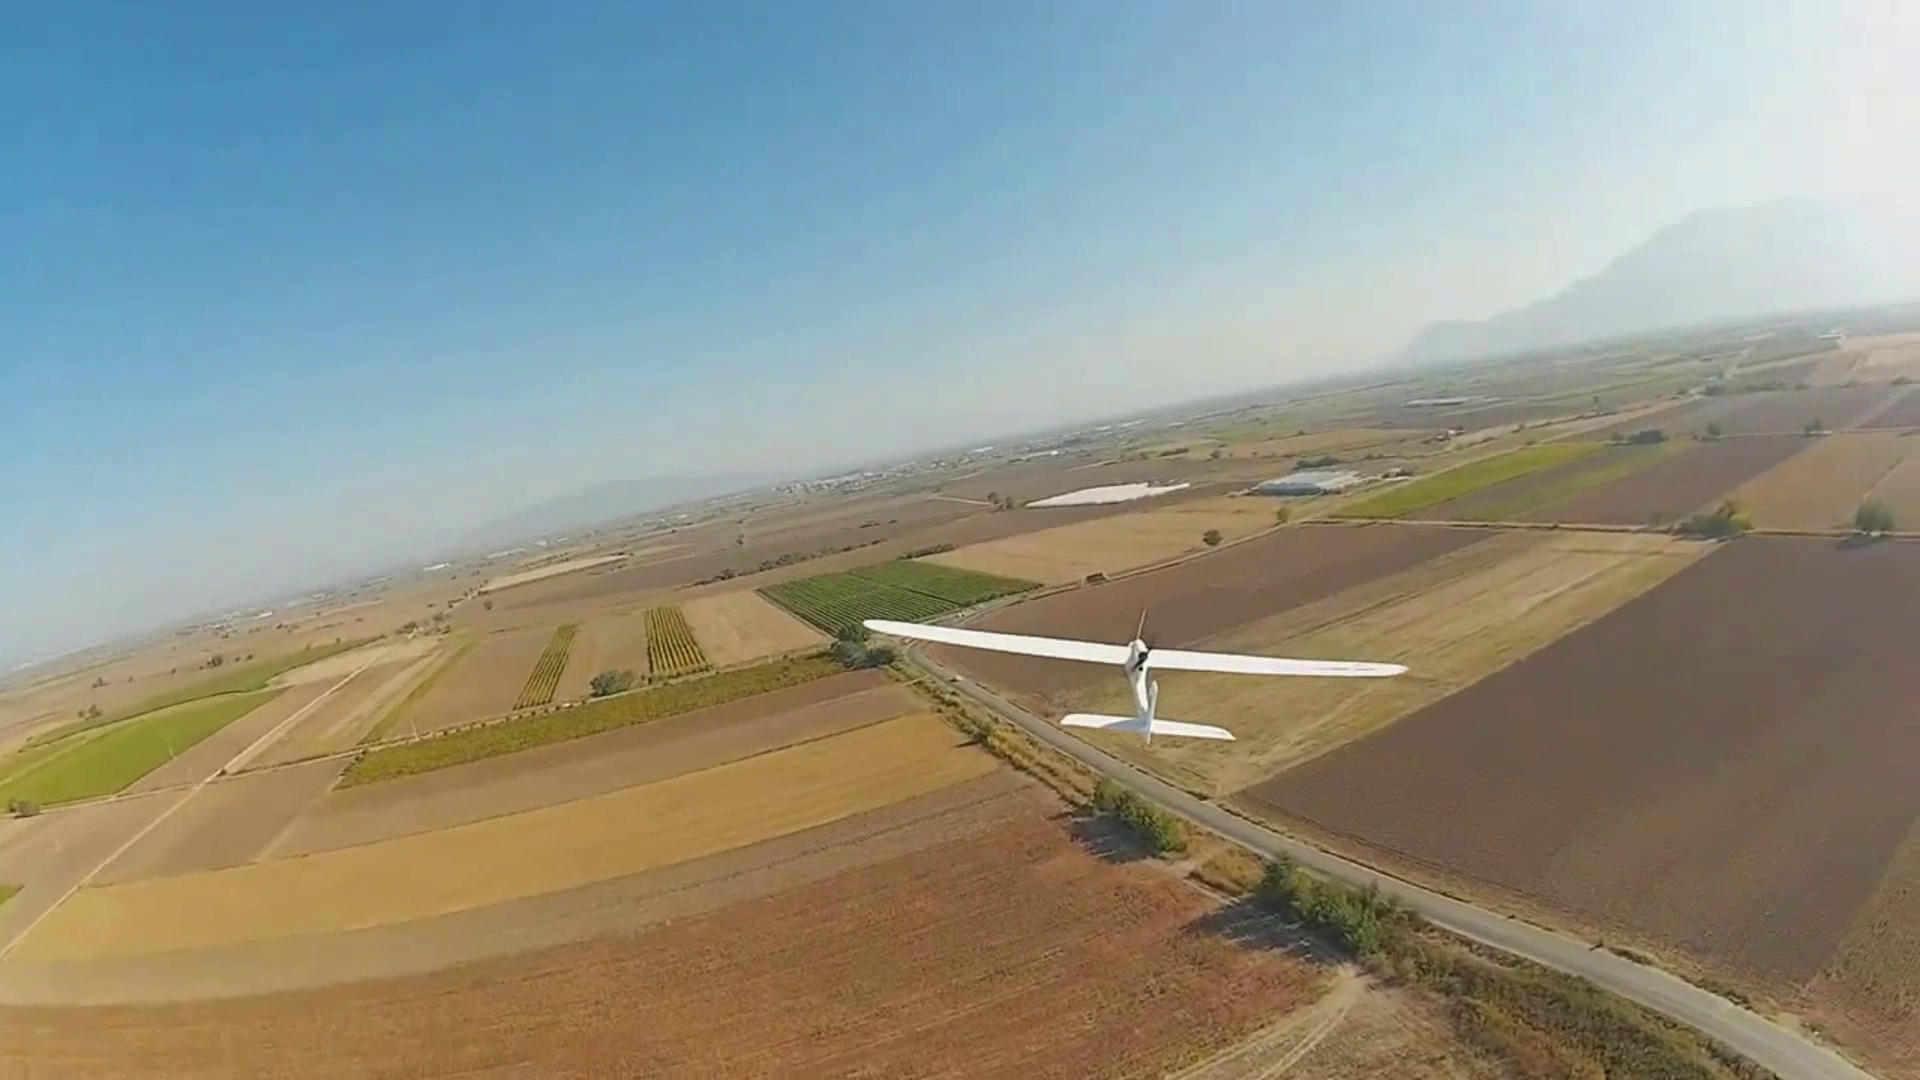airplane: (862, 617, 1895, 1064)
